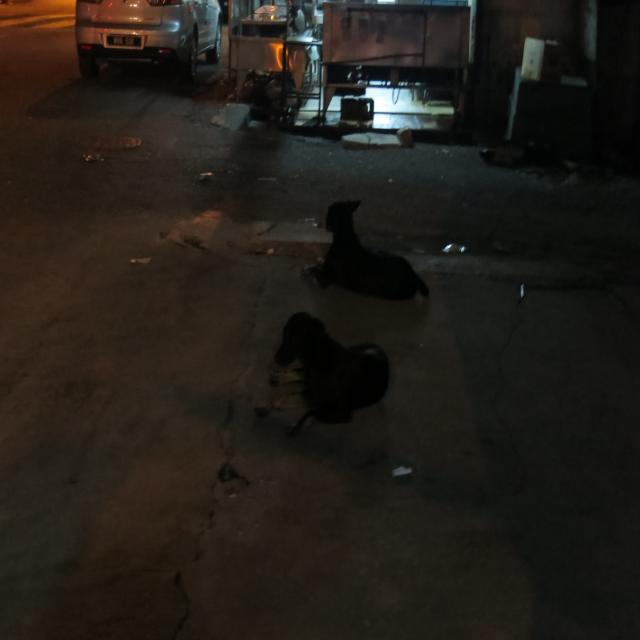Dog: (262, 205, 406, 423)
